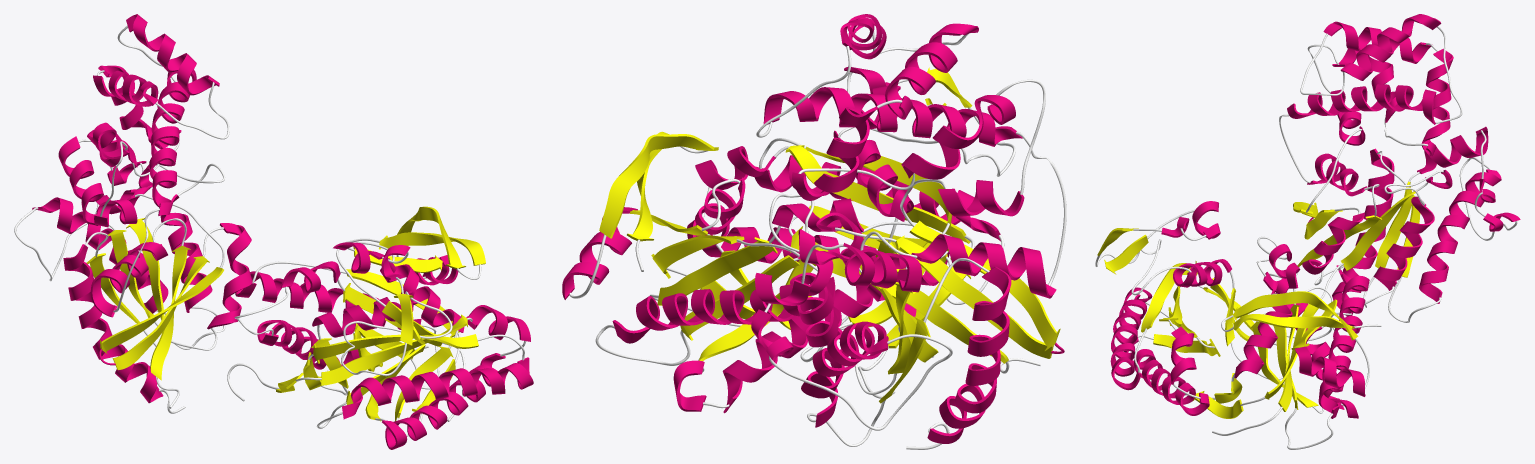
File: gs-alpha with adenylyl cyclase.fbx
3 views of the same model, side by side, from view 1: azimuth 30°, elevation 25°; view 2: azimuth 150°, elevation 25°; view 3: azimuth 270°, elevation 25° (orthographic). The views are drawn at different scales.
Visible parts, largest first — view 1: 1azs_A_Helix3, 1azs_C_Helix2, 1azs_C_Helix15, 1azs_A_Helix2, 1azs_C_Helix3, 1azs_C_Helix14, 1azs_B_Helix4, 1azs_C_Helix8, 1azs_C_Helix1, 1azs_B_Helix5, 1azs_A_Strand5, 1azs_C_Helix10 (+26 smaller); view 2: 1azs_C_Helix2, 1azs_C_Helix15, 1azs_B_Helix4, 1azs_C_Helix14, 1azs_C_Helix1, 1azs_B_Helix2, 1azs_C_Helix4, 1azs_C_Helix6, 1azs_B_Strand7, 1azs_A_Helix3, 1azs_C_Helix5, 1azs_C_Helix11 (+34 smaller); view 3: 1azs_C_Helix2, 1azs_C_Helix14, 1azs_B_Helix4, 1azs_A_Helix3, 1azs_C_Helix15, 1azs_A_Helix2, 1azs_C_Helix3, 1azs_C_Helix10, 1azs_C_Helix5, 1azs_C_Helix4, 1azs_B_Helix6, 1azs_B_Strand7 (+25 smaller).
Boxes of the visible parts, x1,y1,x2,y2 form: 1azs_A_Helix3: (342,357,533,419); 1azs_C_Helix2: (149,69,196,215); 1azs_C_Helix15: (63,244,163,403); 1azs_A_Helix2: (382,353,505,449); 1azs_C_Helix3: (126,14,219,95); 1azs_C_Helix14: (32,197,168,313); 1azs_B_Helix4: (235,271,421,329); 1azs_C_Helix8: (207,223,252,329); 1azs_C_Helix1: (90,242,167,317); 1azs_B_Helix5: (380,258,464,332); 1azs_A_Strand5: (321,314,467,385); 1azs_C_Helix10: (160,194,212,312); 1azs_C_Helix2: (763,87,1022,146); 1azs_C_Helix15: (927,266,1011,443); 1azs_B_Helix4: (612,277,835,343); 1azs_C_Helix14: (801,321,888,427); 1azs_C_Helix1: (911,234,1056,298); 1azs_B_Helix2: (722,269,907,413); 1azs_C_Helix4: (885,23,978,119); 1azs_C_Helix6: (901,95,1015,179); 1azs_B_Strand7: (599,134,718,238); 1azs_A_Helix3: (754,155,1000,241); 1azs_C_Helix5: (792,105,878,200); 1azs_C_Helix11: (843,243,921,292); 1azs_C_Helix2: (1287,84,1436,124); 1azs_C_Helix14: (1419,169,1501,303); 1azs_B_Helix4: (1318,265,1369,418); 1azs_A_Helix3: (1110,287,1152,390); 1azs_C_Helix15: (1332,148,1394,316); 1azs_A_Helix2: (1123,334,1209,415); 1azs_C_Helix3: (1340,14,1441,80); 1azs_C_Helix10: (1373,196,1434,290); 1azs_C_Helix5: (1421,48,1453,156); 1azs_C_Helix4: (1323,21,1432,63); 1azs_B_Helix6: (1295,346,1365,396); 1azs_B_Strand7: (1233,291,1358,340).
Size of the model in its own units: 72.53 by 71.99 by 82.69.
